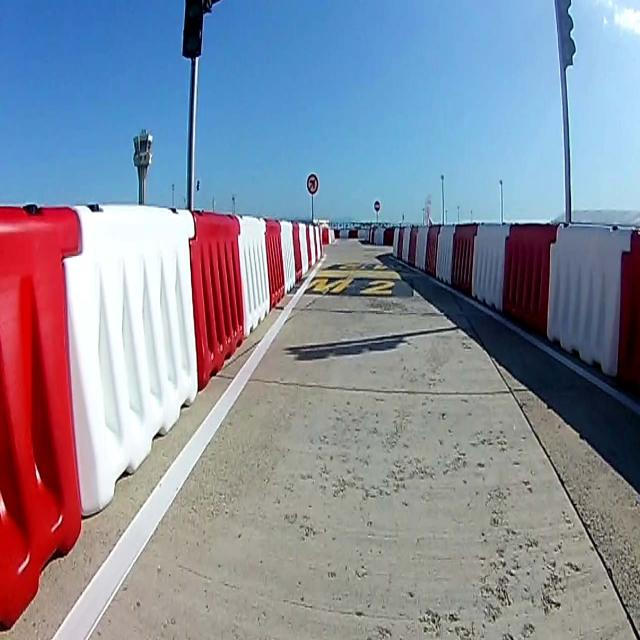girisyok: (374, 200, 380, 212)
soladonulmez: (306, 173, 318, 194)
